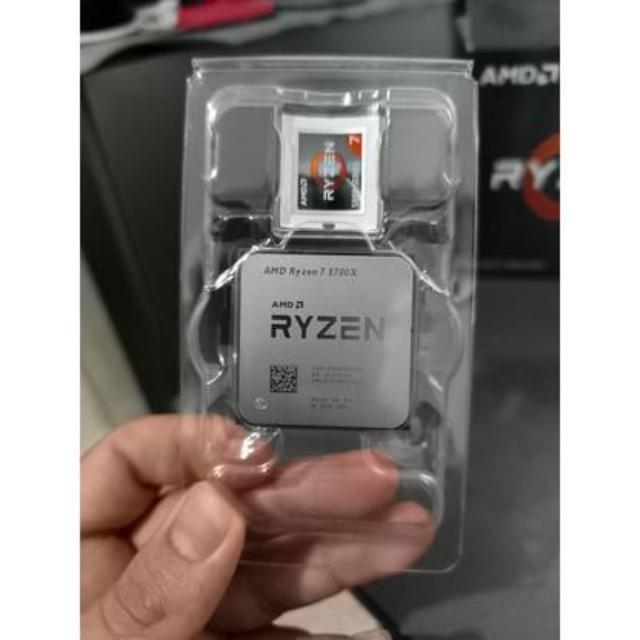CPU: (240, 251, 411, 431)
